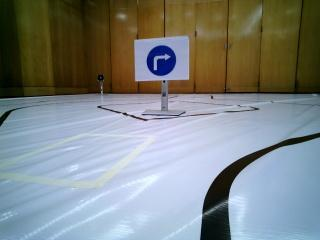right: (138, 40, 188, 81)
